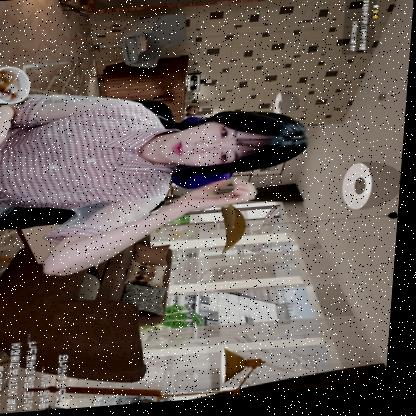streamer: (0, 77, 315, 282)
